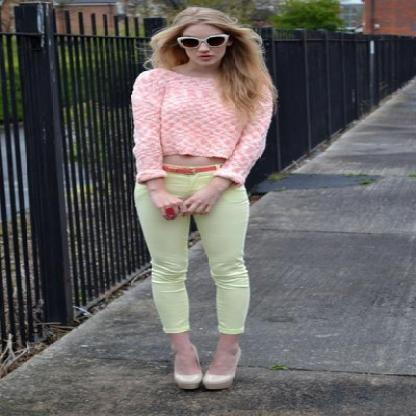jacket: (131, 68, 273, 184)
pants: (134, 170, 249, 333)
shoe: (174, 369, 233, 383)
